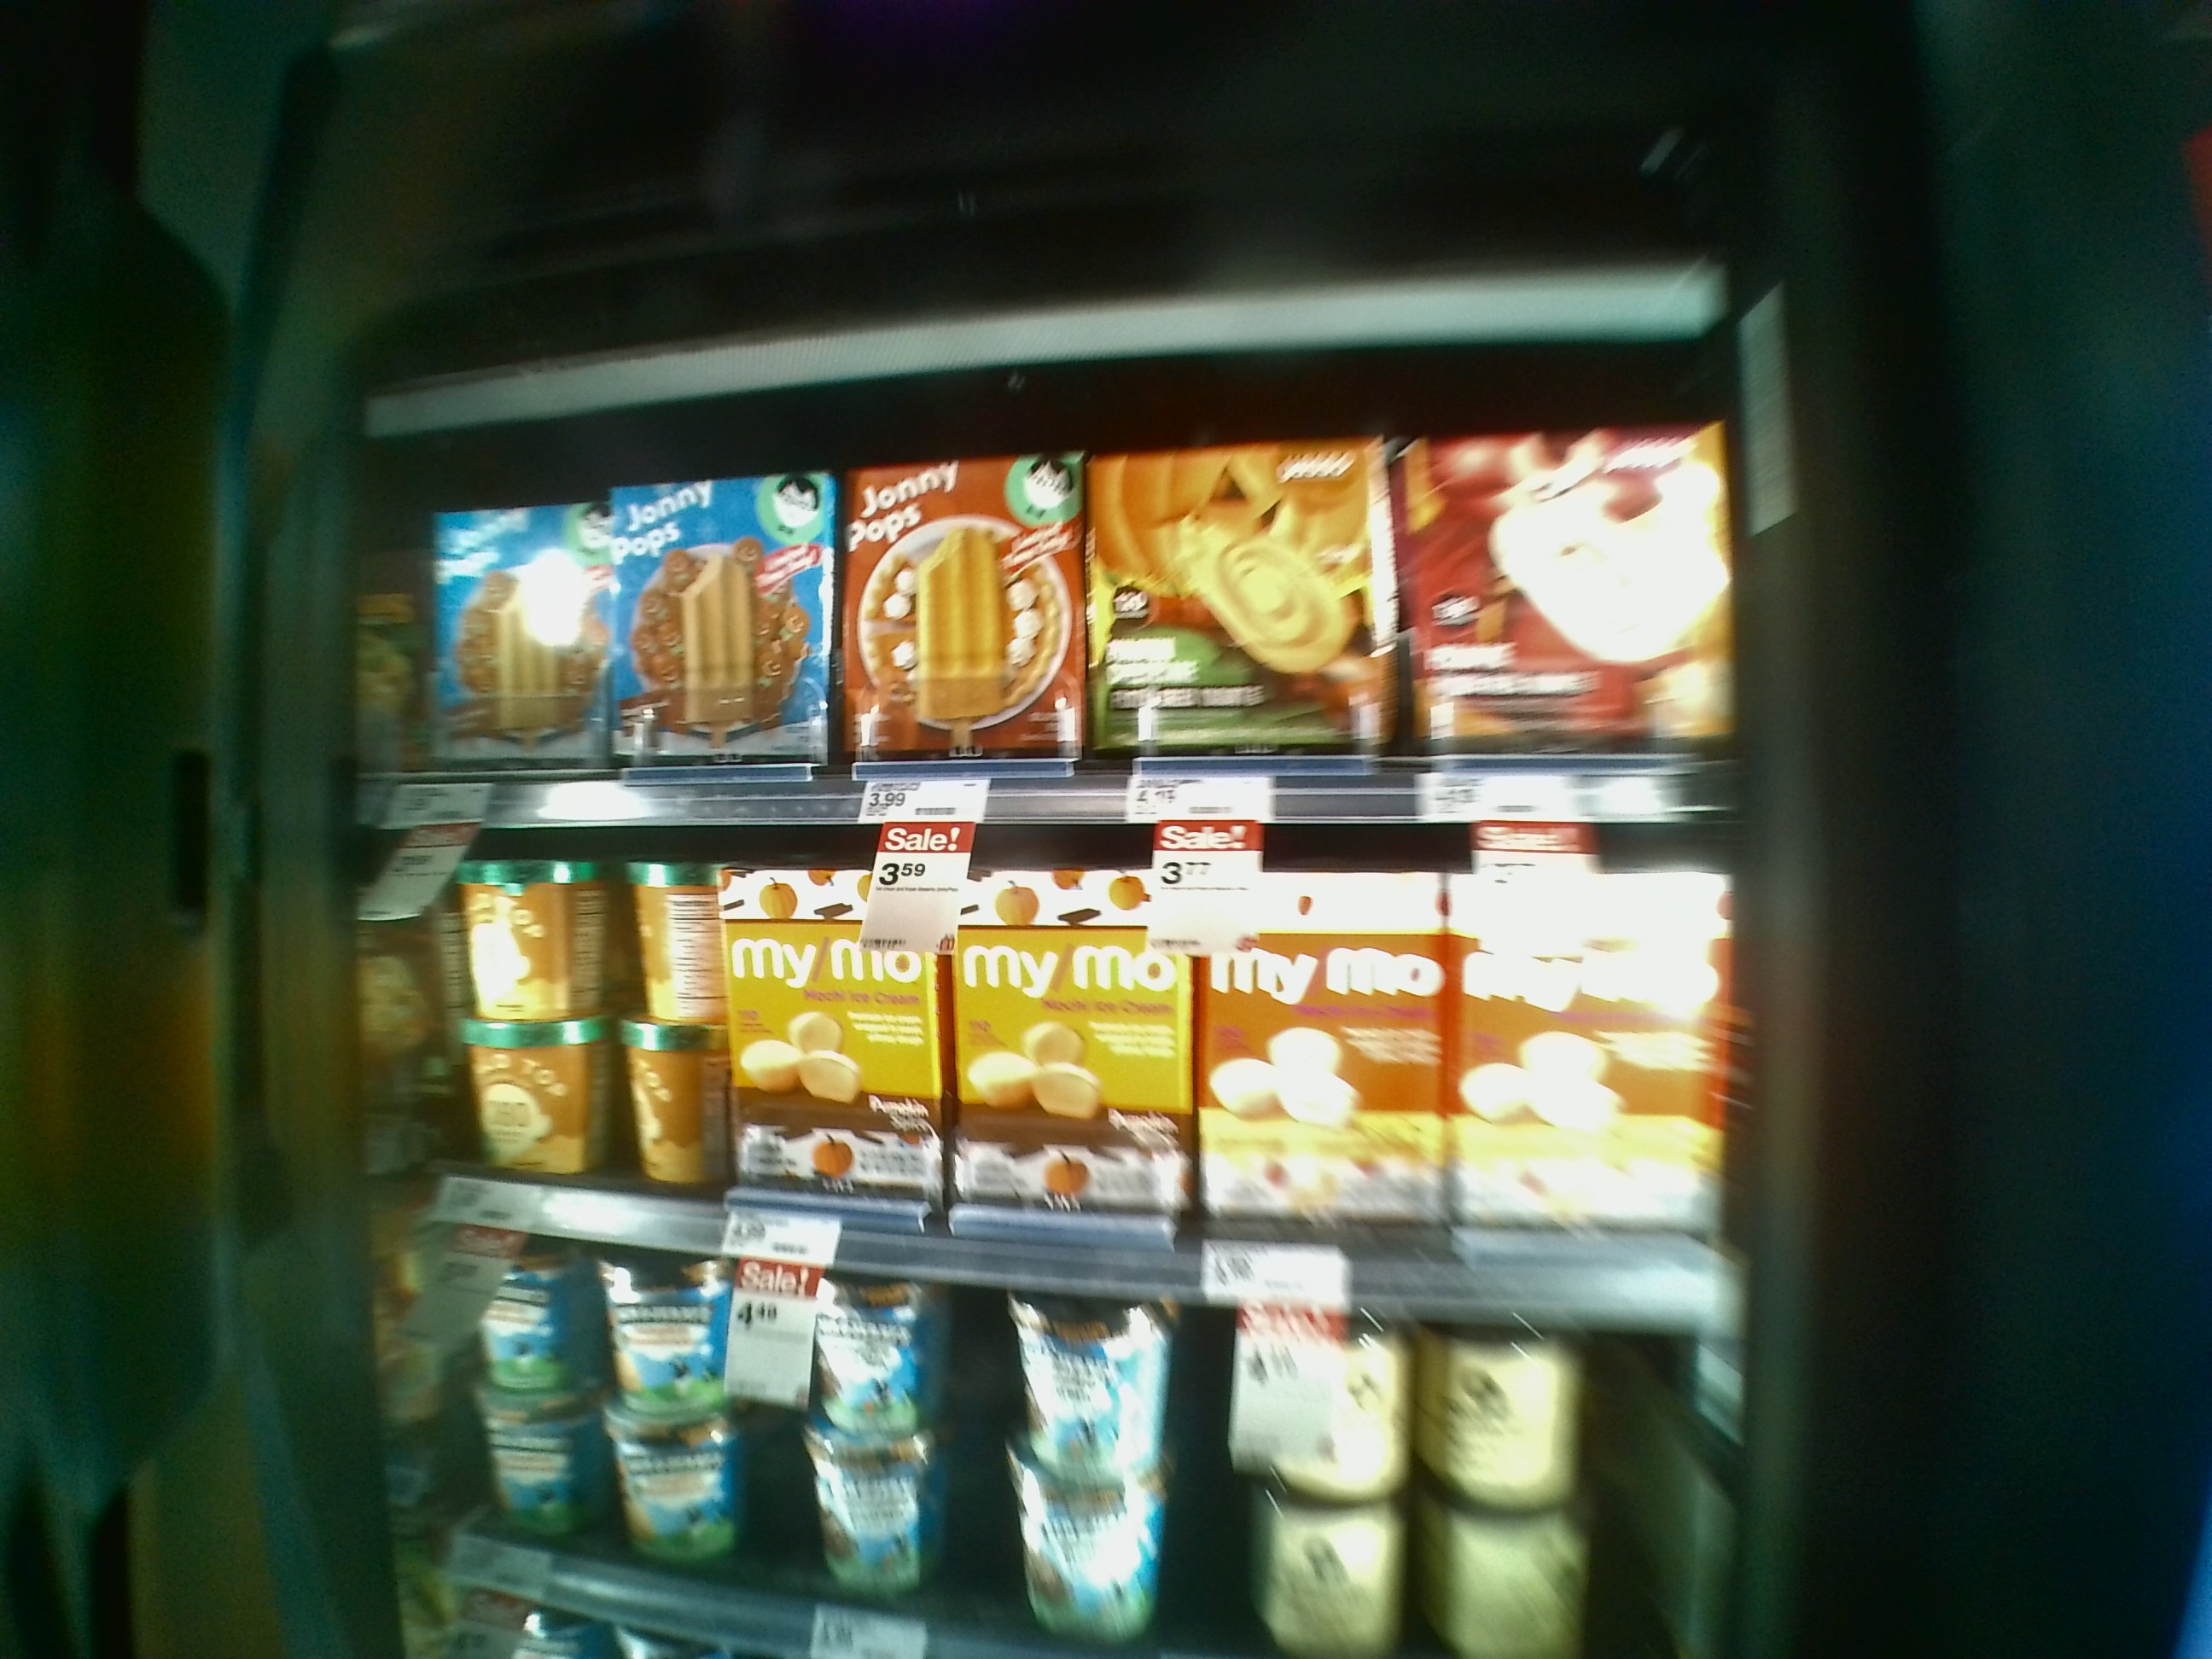shelf: (380, 793, 1740, 1305), (394, 394, 1737, 817)
